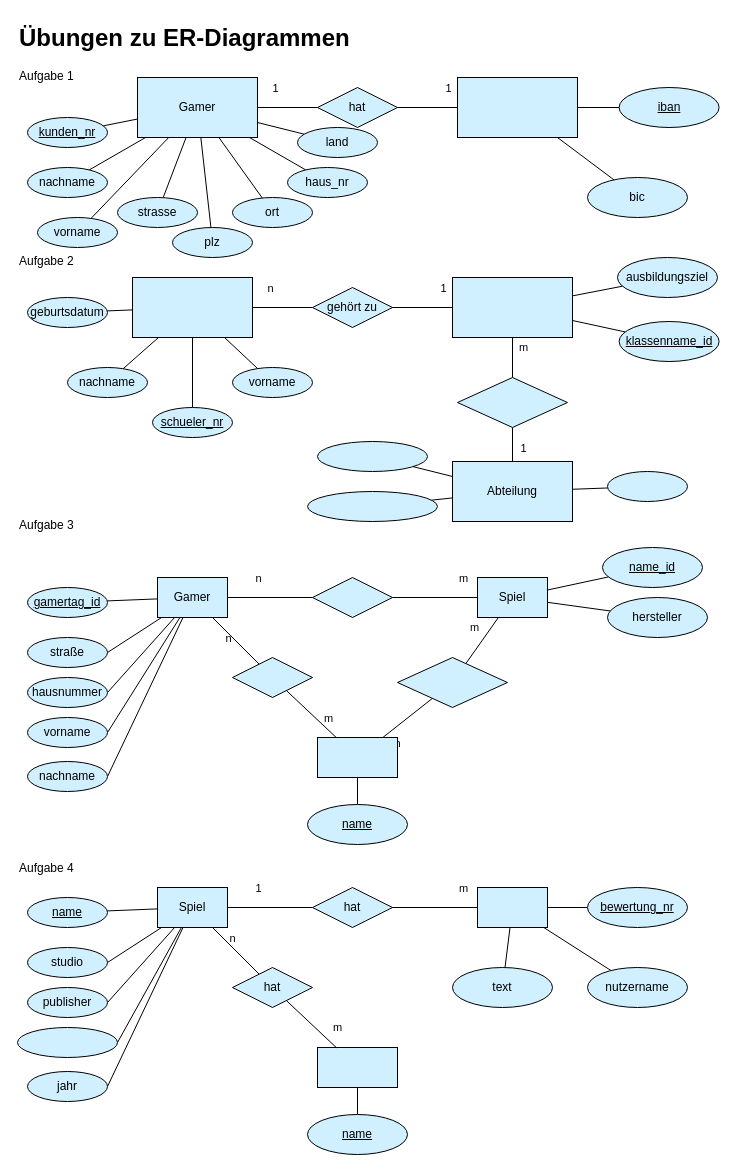
This 737x1172 diagram has some shape labels left out. Here are the shapes that lost their labels. From the top down, the box of each, then its label:
(456, 76, 578, 138): Konto
(132, 276, 252, 338): Schueler
(452, 276, 572, 338): Klasse
(456, 376, 568, 428): verwaltet von
(316, 440, 428, 472): abteilungsleiter
(306, 490, 438, 522): abteilungskoordinator
(606, 470, 688, 502): abteilung_nr
(312, 576, 392, 618): spielt
(232, 656, 312, 698): besitzt
(396, 656, 508, 708): spielbar auf
(316, 736, 398, 778): Plattform
(476, 886, 548, 928): Bewertung
(16, 1026, 118, 1058): usk_bewertung
(316, 1046, 398, 1088): Genre
